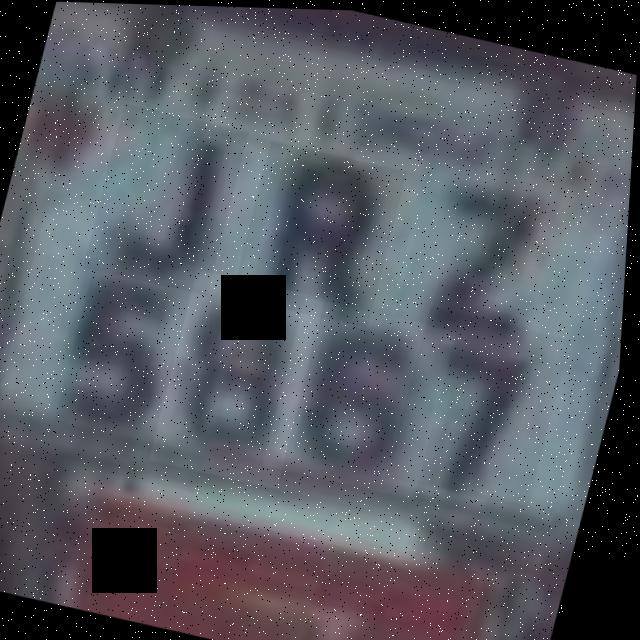5: (35, 252, 203, 452)
6: (267, 294, 462, 498)
7: (392, 305, 576, 506)
8: (153, 268, 330, 488)
J: (85, 102, 252, 295)
R: (234, 138, 410, 326)
Z: (397, 158, 566, 343)
